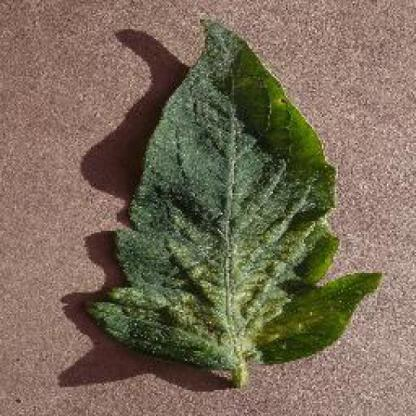Tomato_Spider_Mites: (86, 19, 382, 367)
